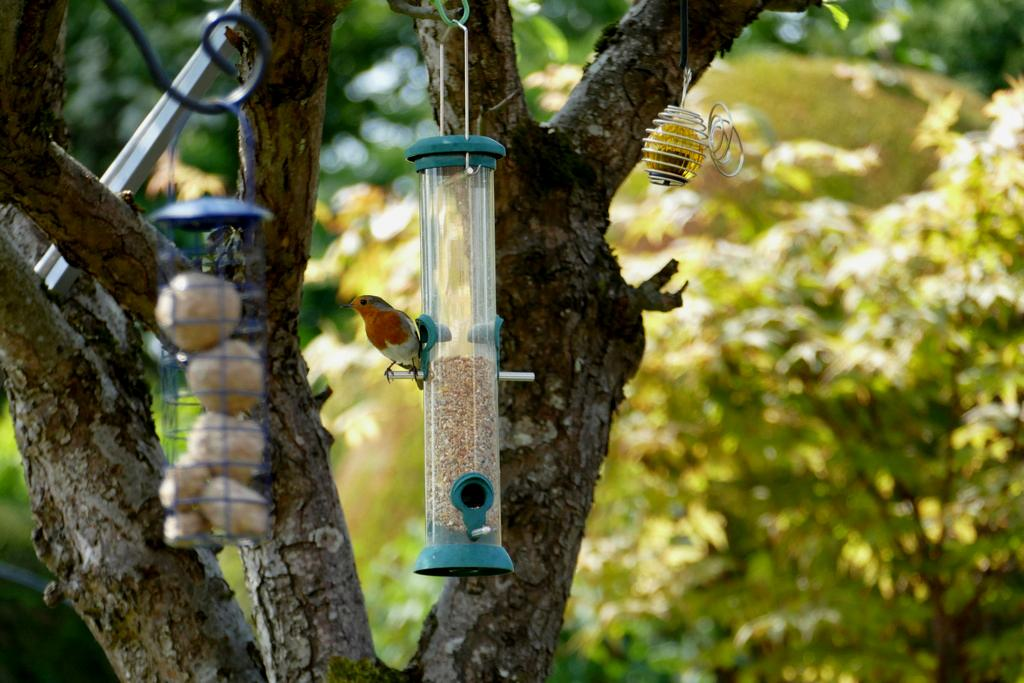ErithacusRubecula: (339, 294, 421, 384)
